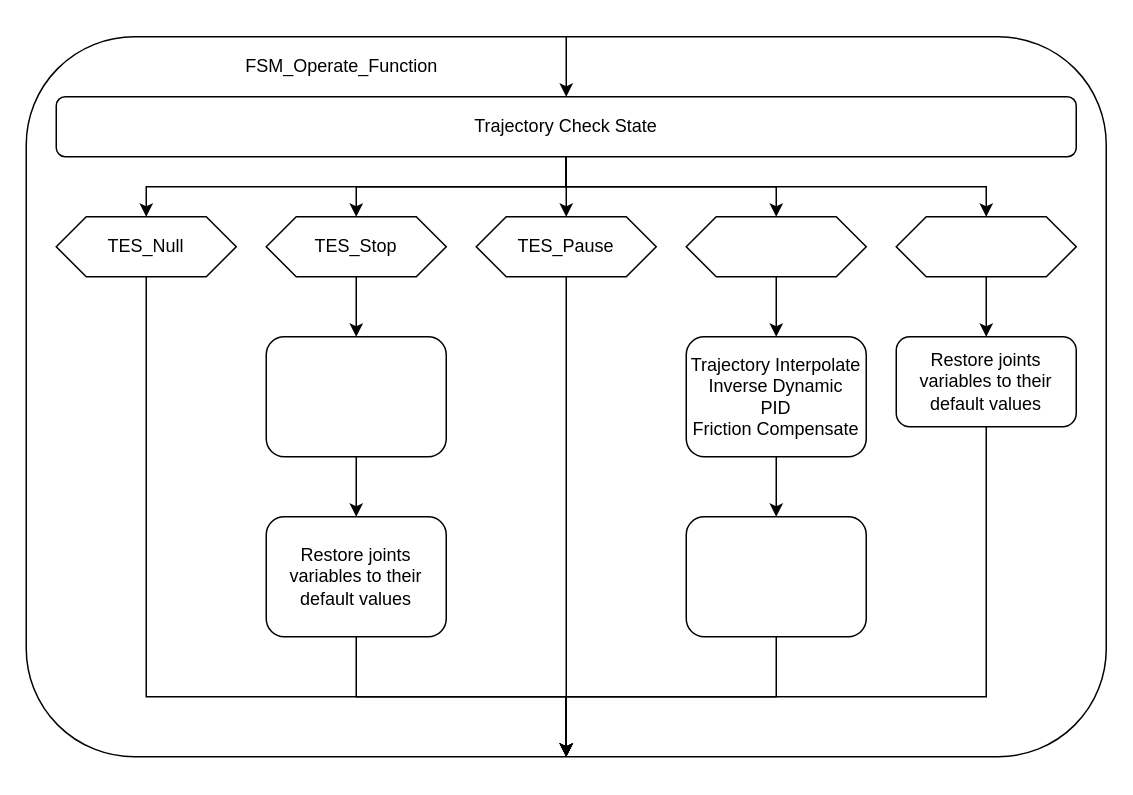
This 1133x795 diagram has some shape labels left out. Here are the shapes that lost their labels. From the top down, the box of each, then its label:
(685, 215, 866, 277): TES_Execute
(895, 215, 1076, 277): TES_Finish
(265, 335, 446, 457): Restore trajectory variables to their default values
(685, 515, 866, 637): Check Limits Check Error Flags Set New Torque Values
